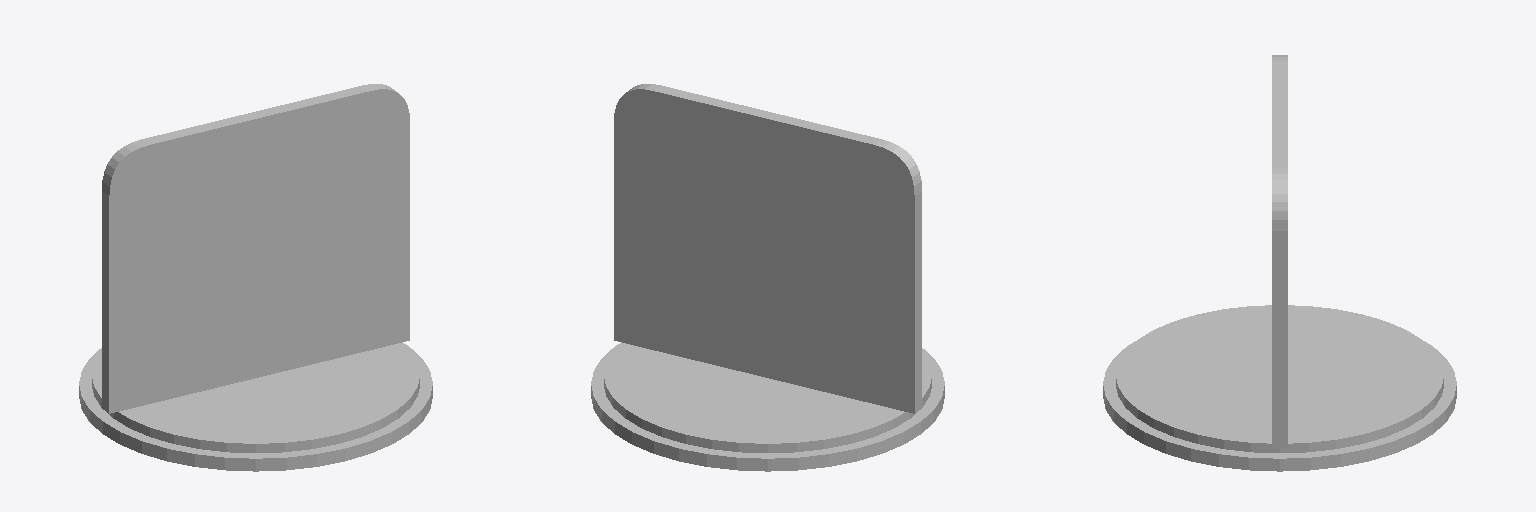
The model's file is LMini1_Final.obj.
The picture shows the model from 3 angles: view 1: azimuth 30°, elevation 25°; view 2: azimuth 150°, elevation 25°; view 3: azimuth 270°, elevation 25°; orthographic projection.
Parts seen in each view (by area): view 1: LMini1_LP; view 2: LMini1_LP; view 3: LMini1_LP.
Boxes of the visible parts, x1=… form: LMini1_LP: x1=79, y1=84, x2=432, y2=471; LMini1_LP: x1=591, y1=84, x2=944, y2=471; LMini1_LP: x1=1103, y1=55, x2=1456, y2=471.
Size of the model in its own units: 2.87 by 2.52 by 2.87.